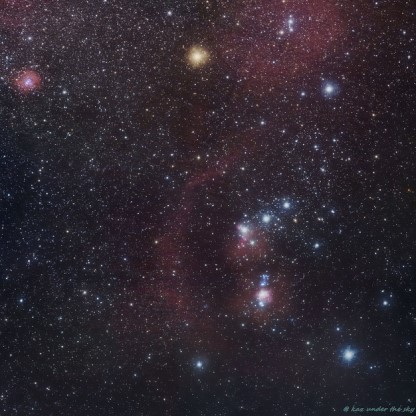Orion: (327, 336, 360, 367), (182, 41, 207, 76), (223, 216, 254, 241), (186, 353, 214, 378), (318, 79, 342, 104), (252, 205, 276, 230), (276, 191, 297, 216)
